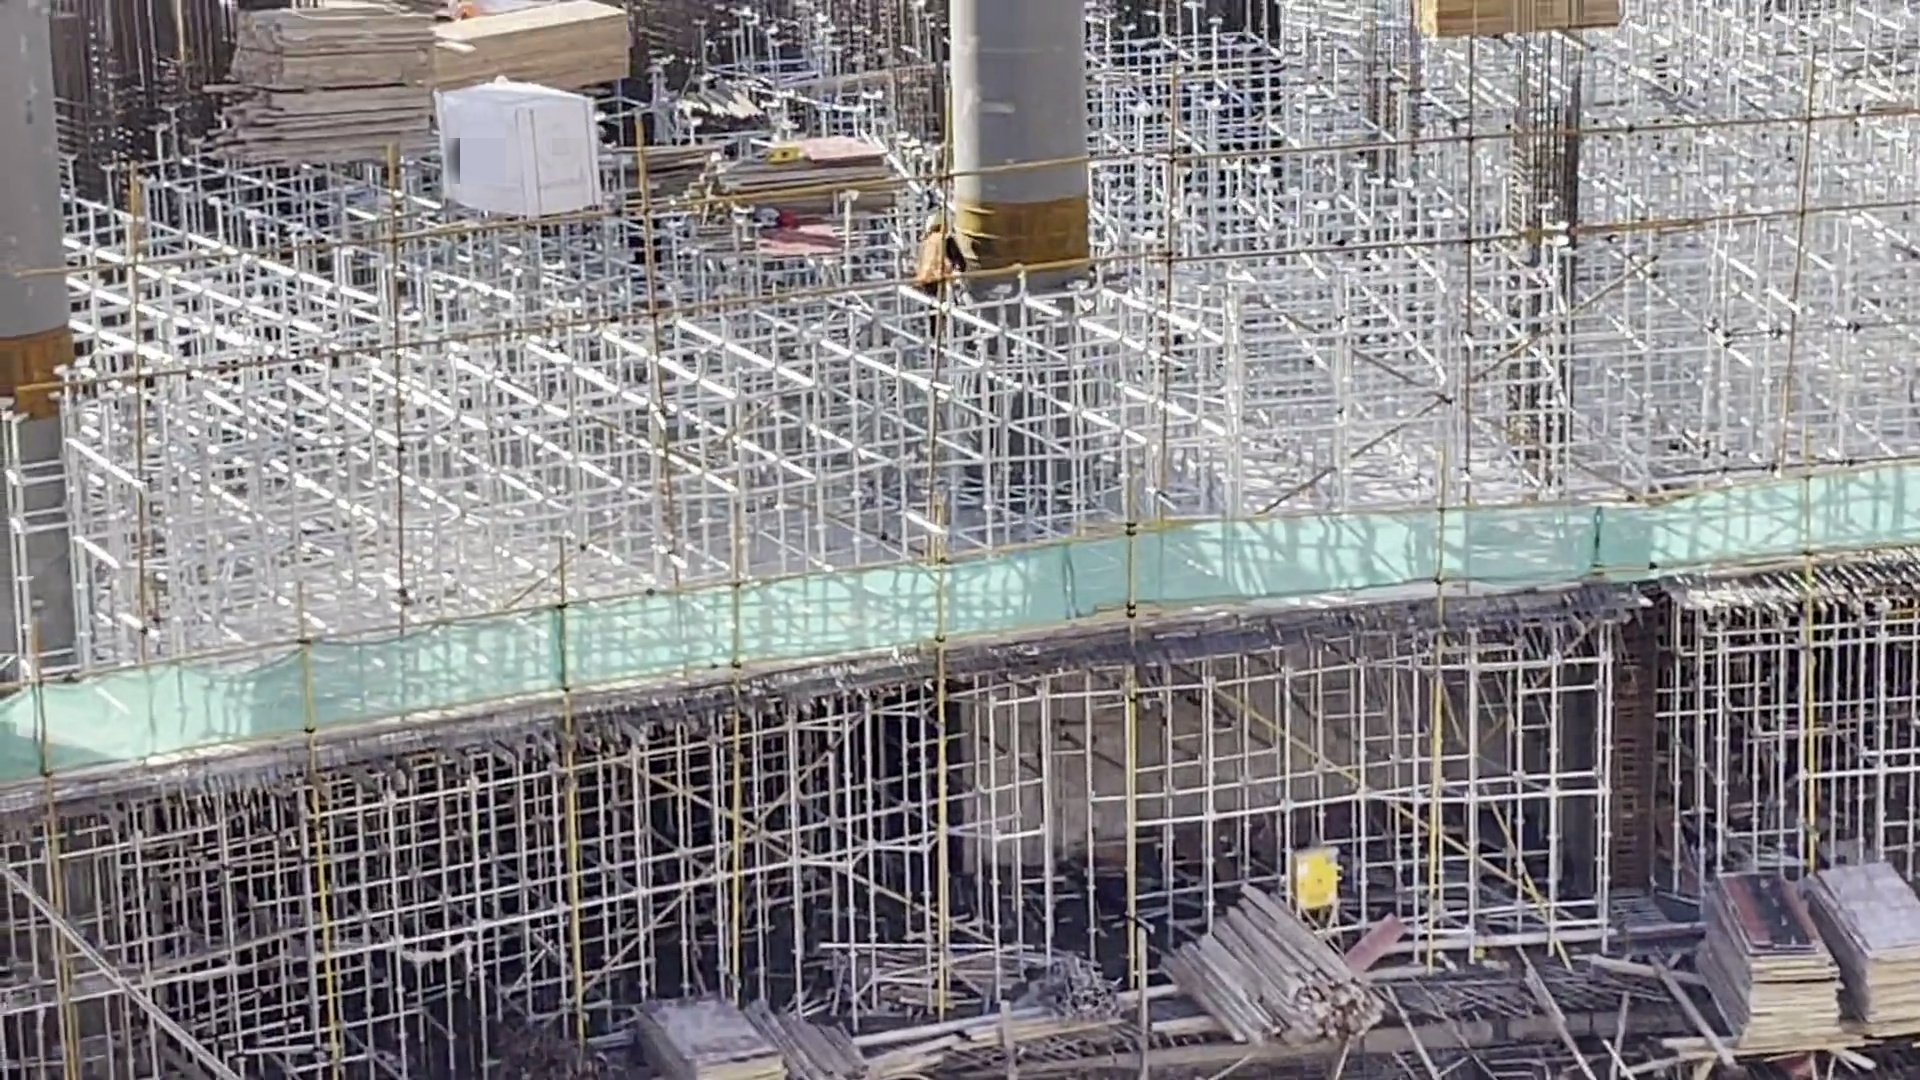board: (1692, 864, 1851, 1054), (1811, 857, 1920, 1043), (709, 129, 899, 218), (630, 982, 789, 1080)
ebox: (1292, 837, 1354, 916)
wood: (200, 9, 436, 167), (1163, 882, 1395, 1042), (444, 1, 636, 83), (800, 1011, 873, 1080)
